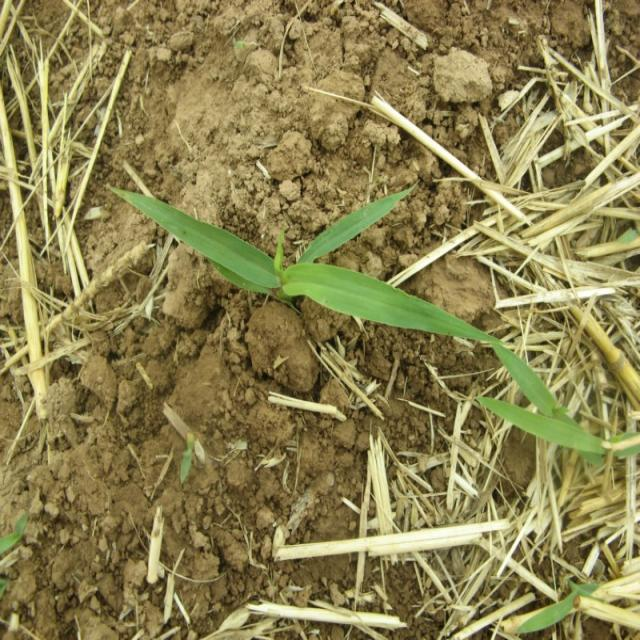bg: (108, 172, 501, 344)
